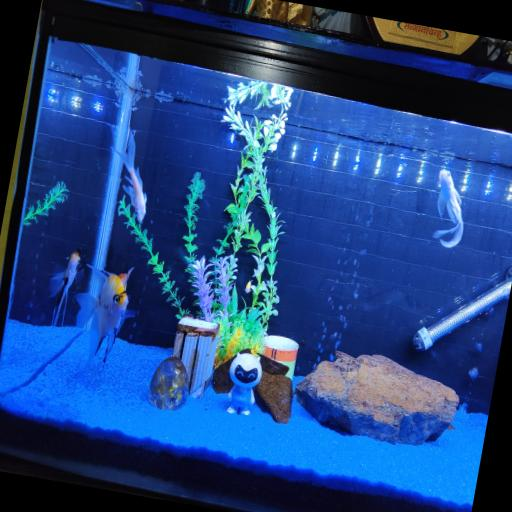Fish: (76, 266, 135, 371), (49, 249, 84, 326), (117, 131, 146, 223), (434, 170, 463, 248), (245, 282, 251, 293)
